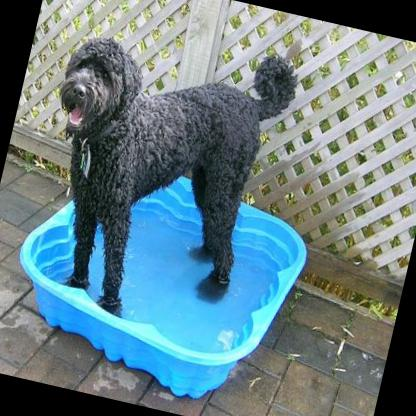Bouvier_des_Flandres: (11, 6, 305, 347)
